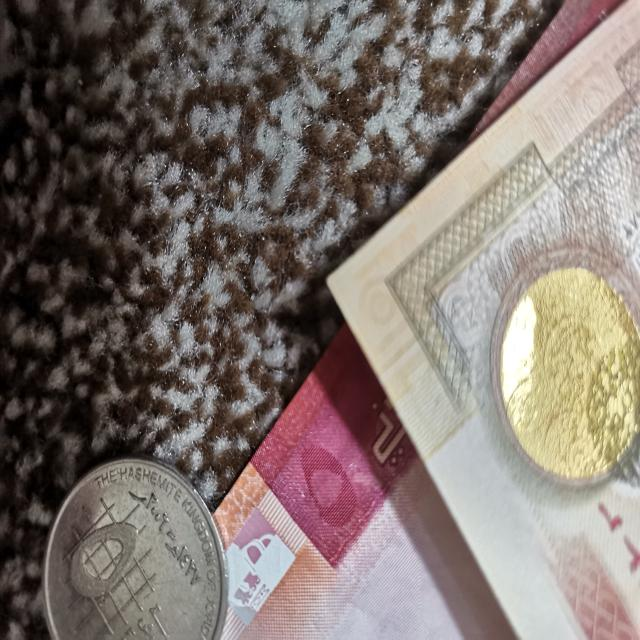5-coins: (40, 456, 229, 640)
5-dinar: (208, 0, 640, 640), (326, 0, 640, 640)
